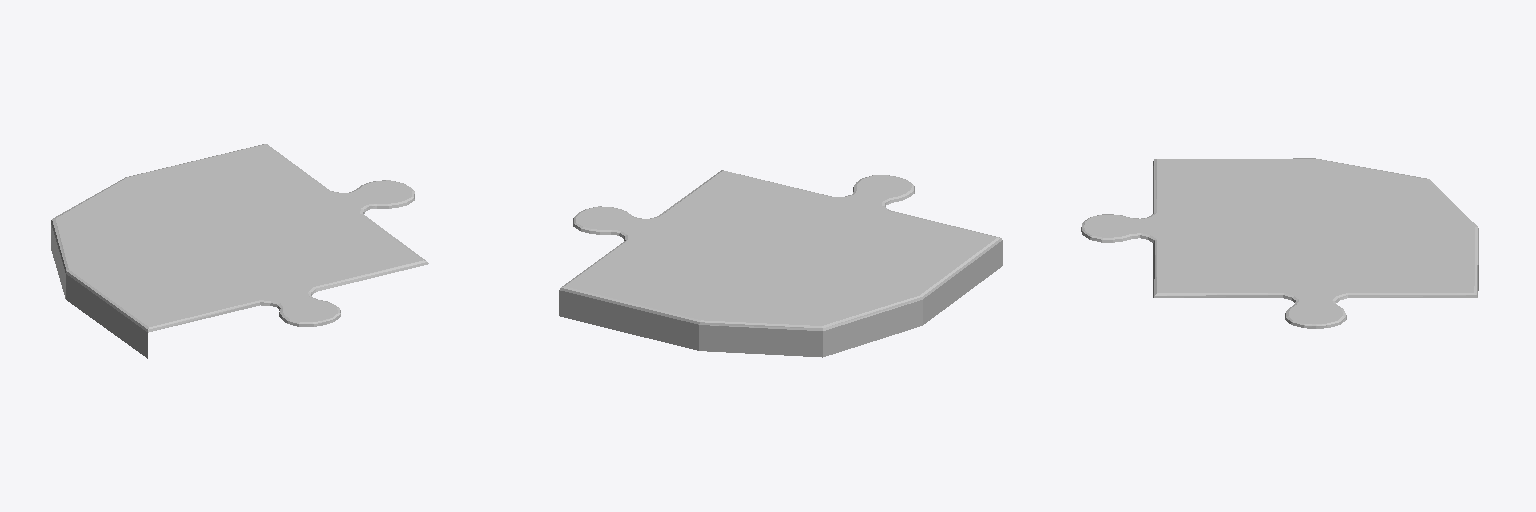
Rendered from Corner Top Left Knobs.obj.
3 renders of one model, left to right at view 1: azimuth 30°, elevation 25°; view 2: azimuth 150°, elevation 25°; view 3: azimuth 270°, elevation 25°, orthographic.
Visible parts, largest first — view 1: PuzzleCornerTopLeftKnobs; view 2: PuzzleCornerTopLeftKnobs; view 3: PuzzleCornerTopLeftKnobs.
Part boxes in pixels (x1,y1,x2,y2): PuzzleCornerTopLeftKnobs: (51, 144, 428, 358); PuzzleCornerTopLeftKnobs: (559, 170, 1002, 357); PuzzleCornerTopLeftKnobs: (1081, 158, 1478, 328).
Bounding box in the file's own units: 725 × 59.05 × 725.